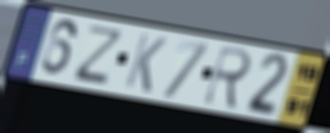2: (243, 50, 289, 119)
6: (40, 18, 80, 80)
7: (161, 37, 210, 100)
K: (122, 31, 169, 96)
R: (201, 44, 255, 113)
Z: (70, 23, 127, 86)
